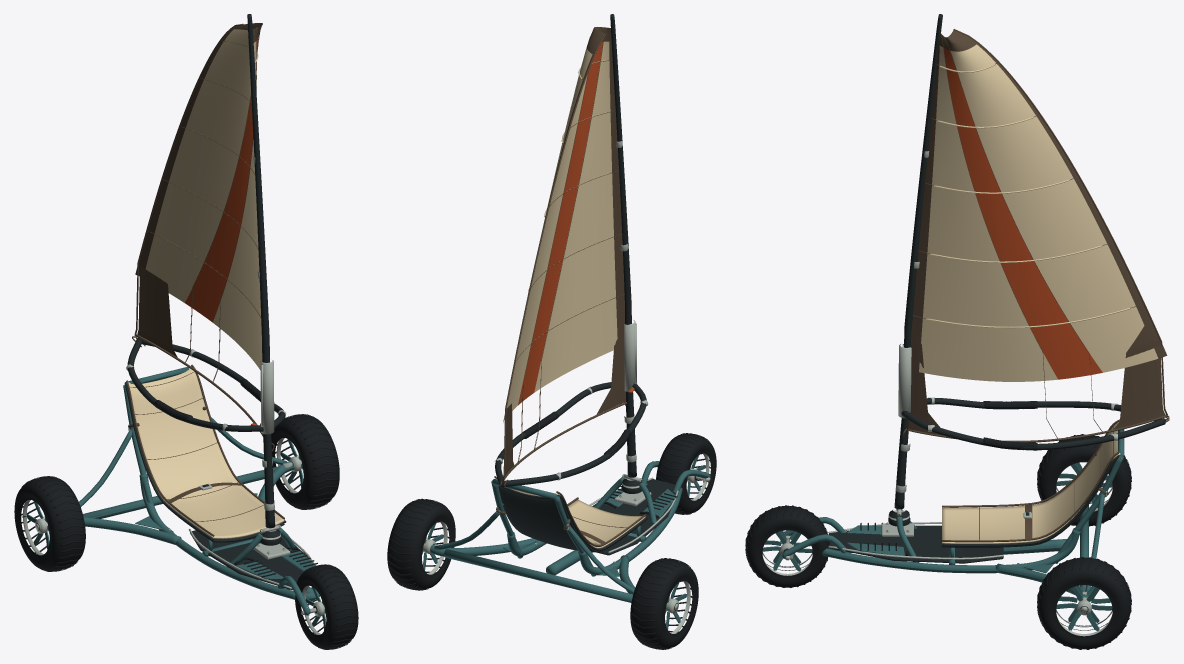
Rendered from sand_sail_kart.glb.
3 renders of one model, left to right at view 1: azimuth 30°, elevation 25°; view 2: azimuth 150°, elevation 25°; view 3: azimuth 270°, elevation 25°, orthographic. The views are drawn at different scales.
Parts seen in each view (by area): view 1: Cambered_Canvas_Sail, Chassis_Canvas, Chassis_Frame, Rig_Dark, Rig_Web, Wheel_Rear_L_Rubber, Wheel_Rear_R_Rubber, Wheel_Front_Rubber, Chassis_Dark, Chassis_Web, Rig_Metal, Chassis_Metal (+1 smaller); view 2: Cambered_Canvas_Sail, Chassis_Frame, Chassis_Dark, Rig_Web, Rig_Dark, Wheel_Rear_L_Rubber, Wheel_Rear_R_Rubber, Wheel_Front_Rubber, Chassis_Canvas, Rig_Metal, Chassis_Metal, Rig_Rubber (+1 smaller); view 3: Cambered_Canvas_Sail, Rig_Web, Chassis_Frame, Chassis_Canvas, Rig_Dark, Wheel_Rear_R_Rubber, Chassis_Dark, Wheel_Front_Rubber, Wheel_Rear_L_Rubber, Chassis_Web, Rig_Canvas, Rig_Metal (+4 smaller).
Part boxes in pixels (<box>): Cambered_Canvas_Sail: <box>135,23,262,370</box>; Chassis_Canvas: <box>126,368,284,538</box>; Chassis_Frame: <box>79,367,319,615</box>; Rig_Dark: <box>127,14,285,528</box>; Rig_Web: <box>132,23,274,451</box>; Wheel_Rear_L_Rubber: <box>14,476,85,571</box>; Wheel_Rear_R_Rubber: <box>271,414,339,509</box>; Wheel_Front_Rubber: <box>295,564,358,649</box>; Chassis_Dark: <box>125,382,308,589</box>; Chassis_Web: <box>126,364,284,536</box>; Rig_Metal: <box>126,156,286,510</box>; Chassis_Metal: <box>35,424,317,615</box>; Cambered_Canvas_Sail: <box>503,27,624,421</box>; Chassis_Frame: <box>430,461,710,602</box>; Chassis_Dark: <box>493,478,675,562</box>; Rig_Web: <box>500,27,627,486</box>; Rig_Dark: <box>495,14,646,487</box>; Wheel_Rear_L_Rubber: <box>630,558,698,649</box>; Wheel_Rear_R_Rubber: <box>387,498,455,590</box>; Wheel_Front_Rubber: <box>656,433,716,514</box>; Chassis_Canvas: <box>495,478,645,548</box>; Rig_Metal: <box>494,141,648,480</box>; Chassis_Metal: <box>423,474,710,609</box>; Rig_Rubber: <box>522,411,631,458</box>; Cambered_Canvas_Sail: <box>911,30,1167,381</box>; Rig_Web: <box>902,29,1169,442</box>; Chassis_Frame: <box>782,429,1124,598</box>; Chassis_Canvas: <box>942,422,1120,543</box>; Rig_Dark: <box>894,14,1165,509</box>; Wheel_Rear_R_Rubber: <box>1037,557,1131,649</box>; Chassis_Dark: <box>828,455,1119,563</box>; Wheel_Front_Rubber: <box>745,505,828,587</box>; Wheel_Rear_L_Rubber: <box>1037,434,1131,526</box>; Chassis_Web: <box>942,419,1119,542</box>; Rig_Canvas: <box>926,64,1130,328</box>; Rig_Metal: <box>895,151,1117,492</box>.
Size of the model in its own units: 2.23 by 4.29 by 2.89.
